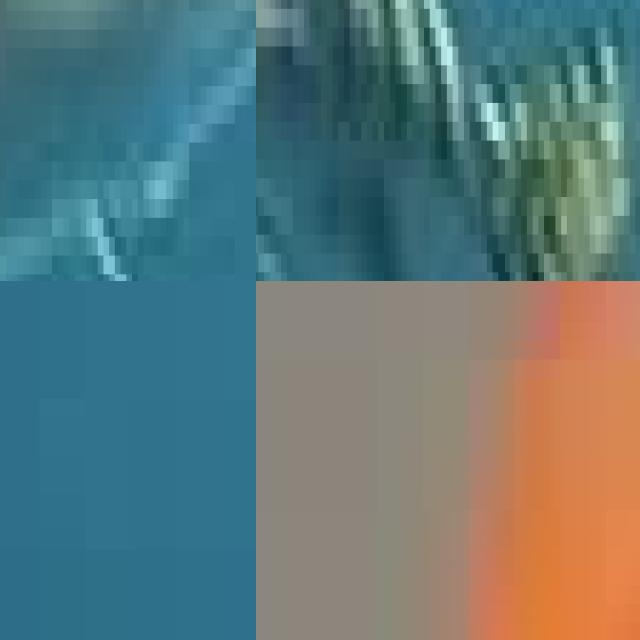fish: (0, 0, 256, 281)
